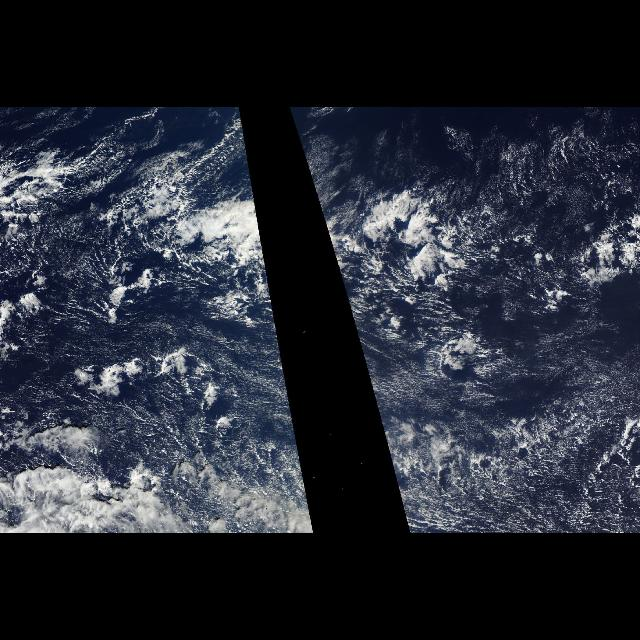Sugar: (432, 114, 640, 228), (132, 320, 298, 446), (352, 320, 494, 446)
